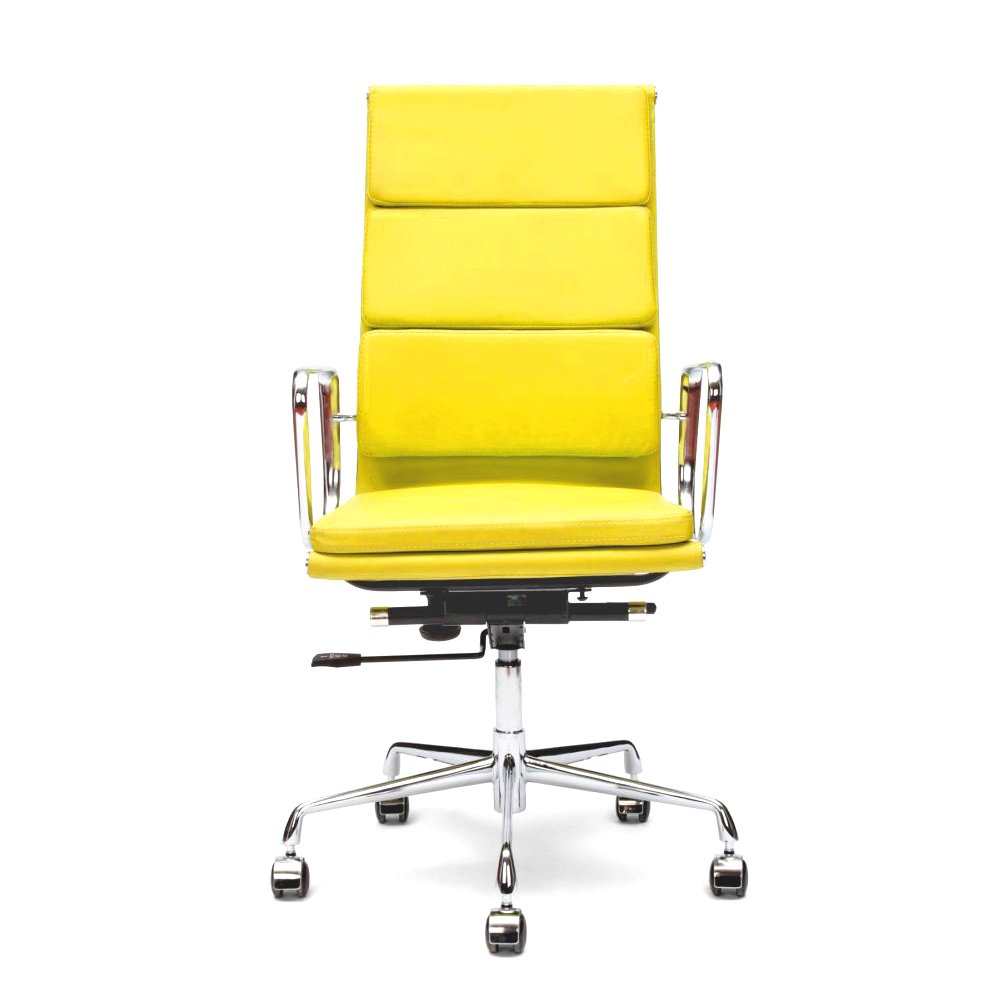chairs: (251, 83, 753, 958)
